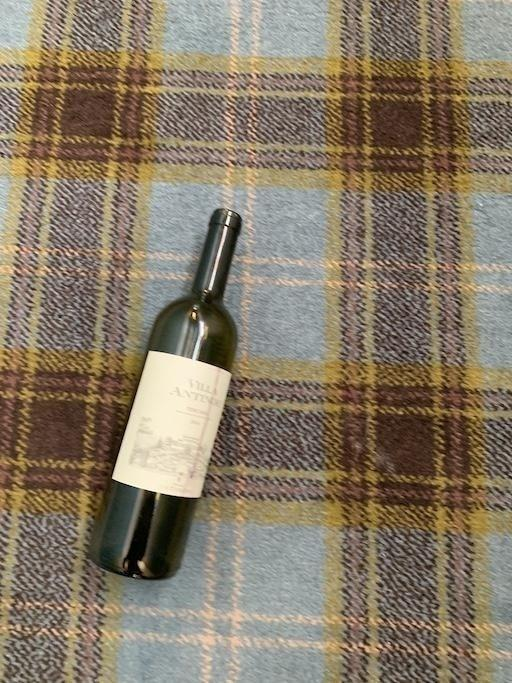bottle-glass: (87, 206, 242, 580)
